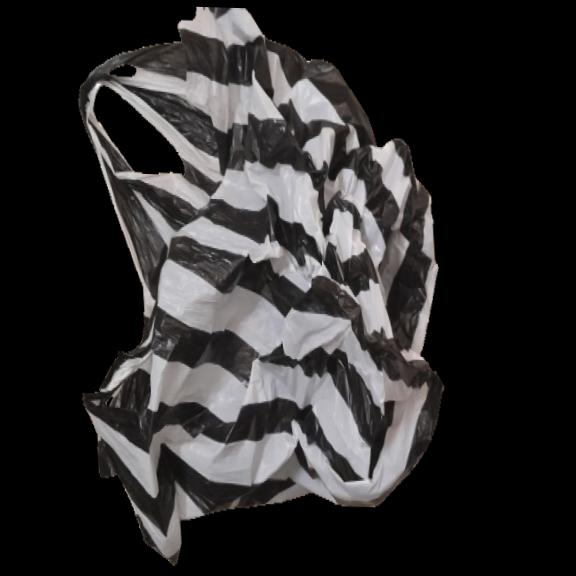Plastik: (55, 2, 461, 576)
